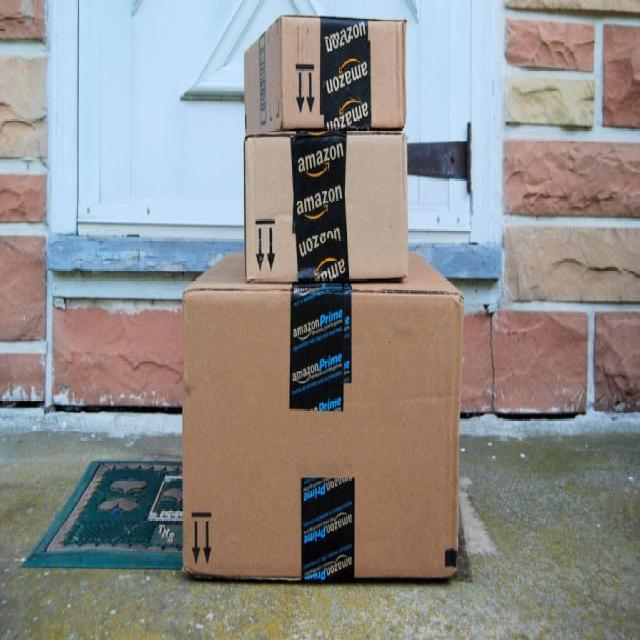Pathole: (178, 242, 468, 594), (241, 125, 414, 294), (241, 9, 411, 134)
